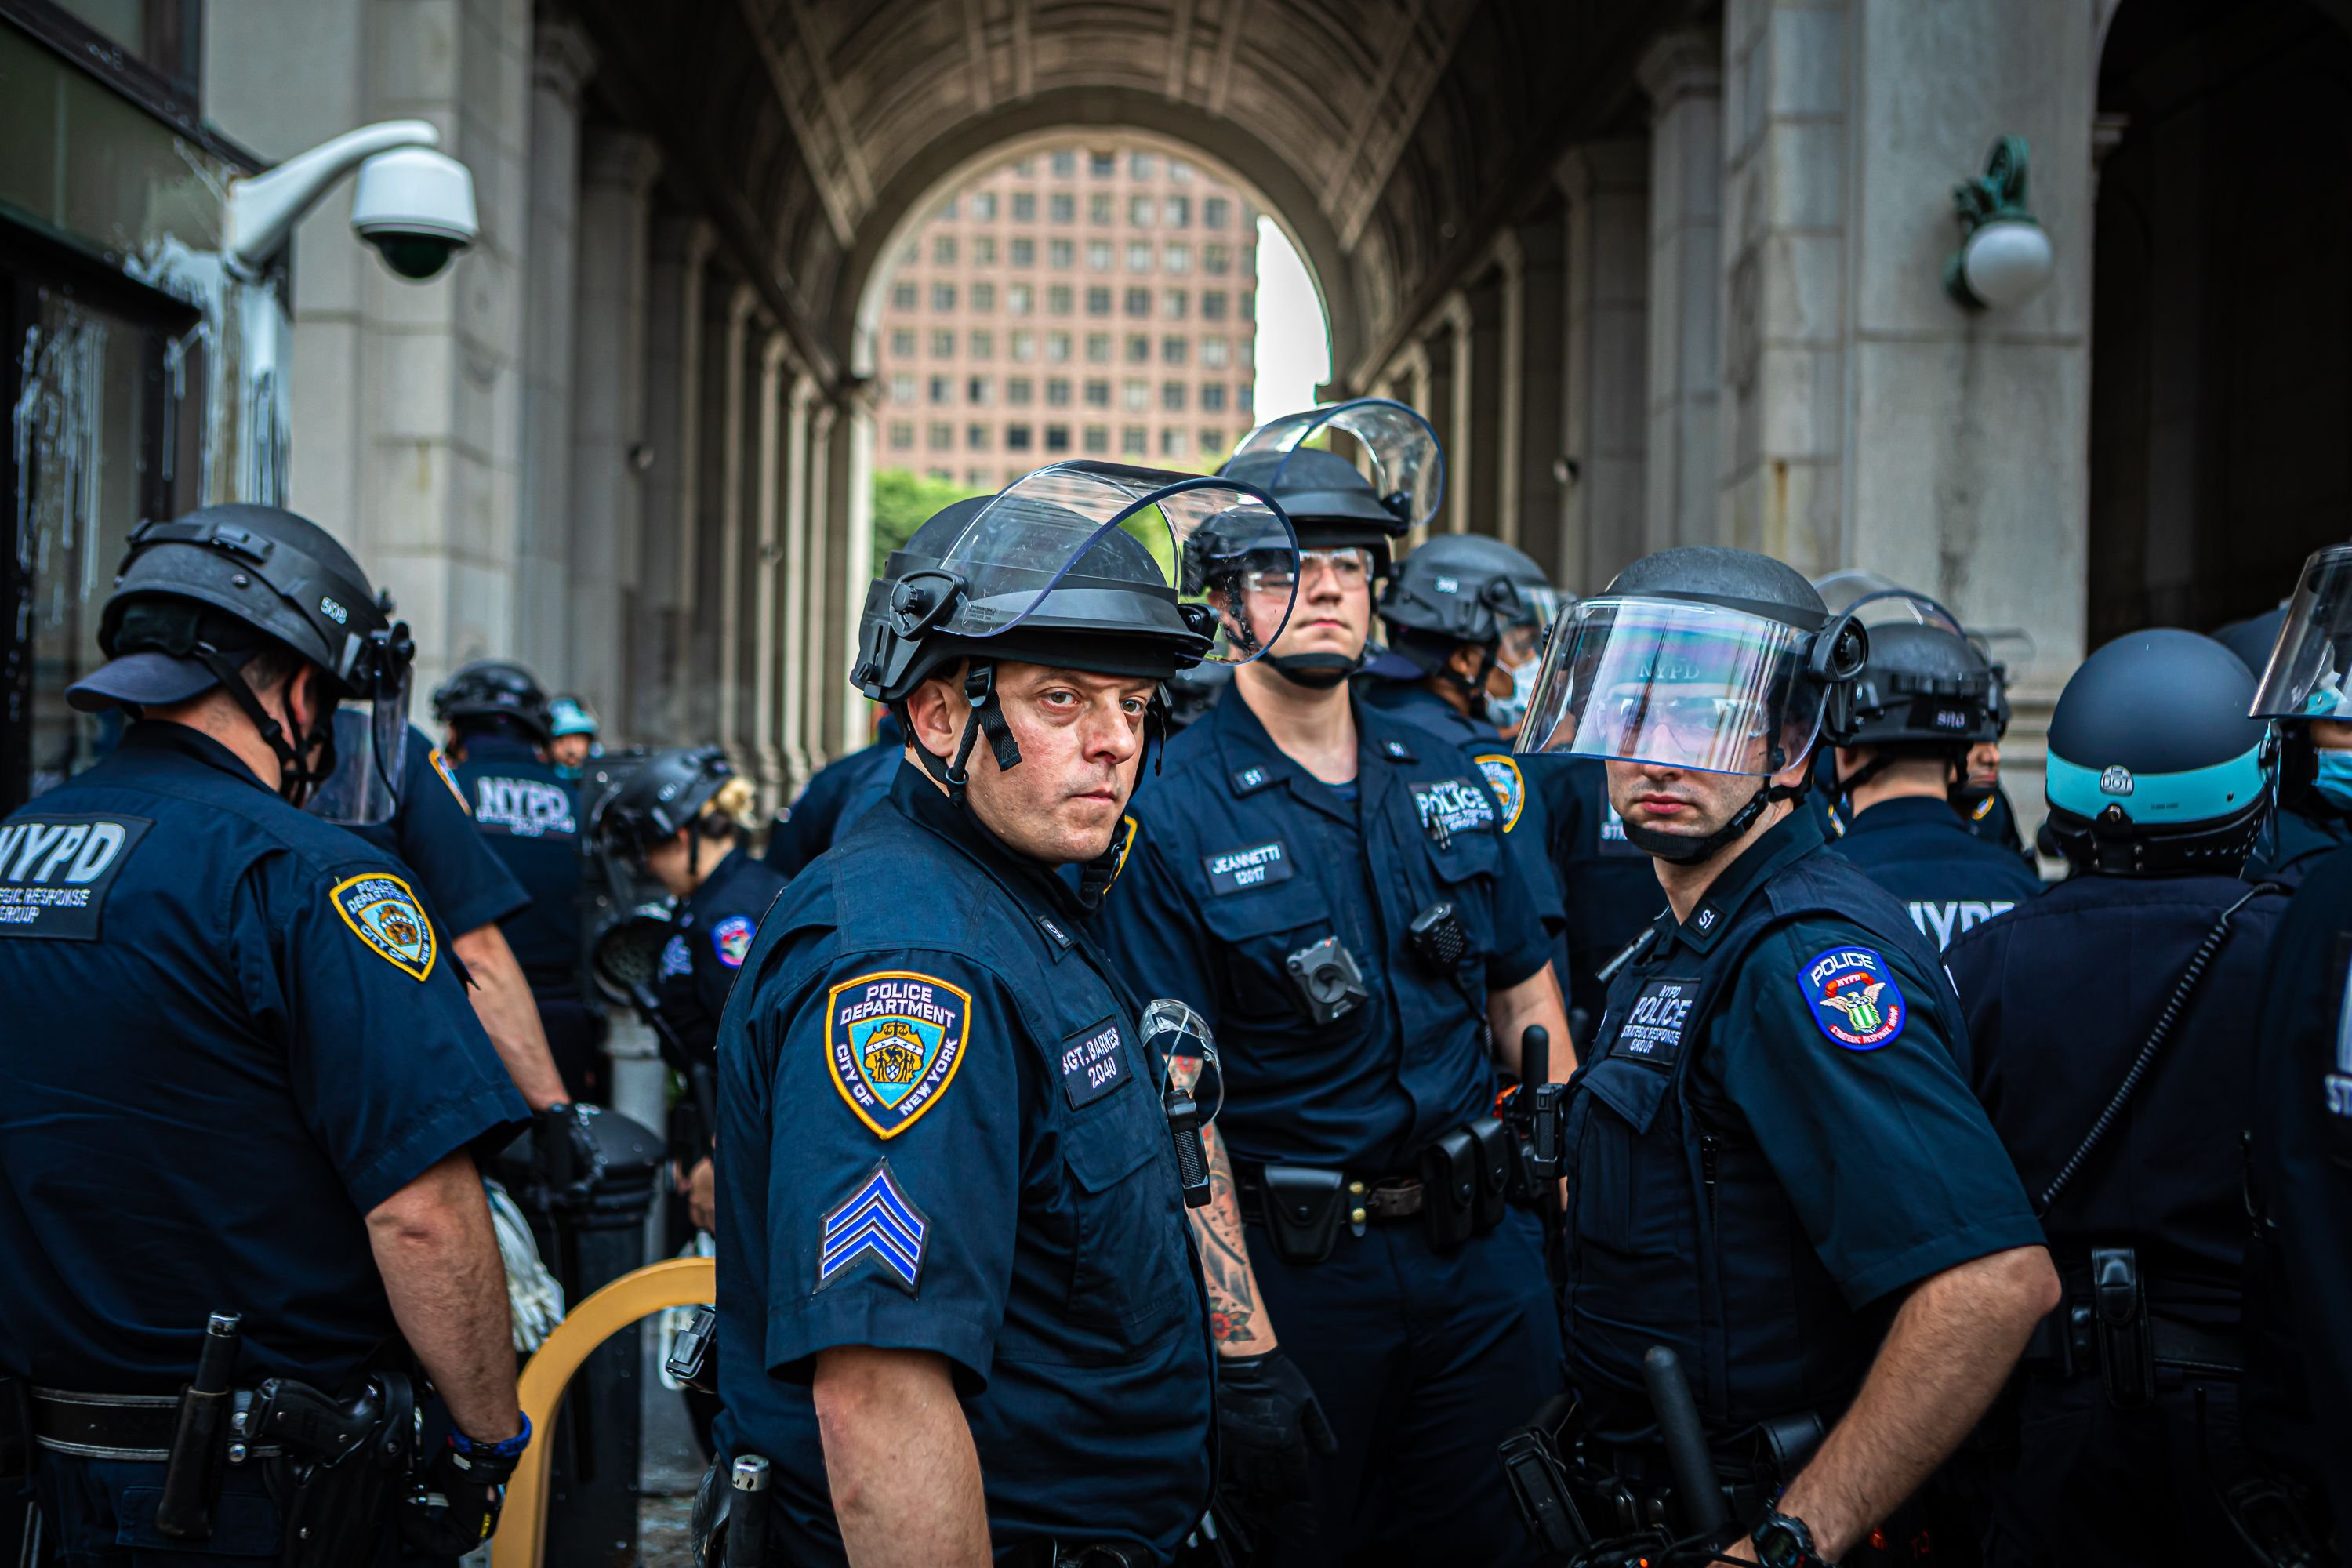mouth: (1290, 614, 1353, 642), (1631, 791, 1694, 819), (1073, 782, 1122, 810)
nose: (1083, 732, 1134, 761), (1633, 756, 1682, 786), (1307, 581, 1344, 604)
